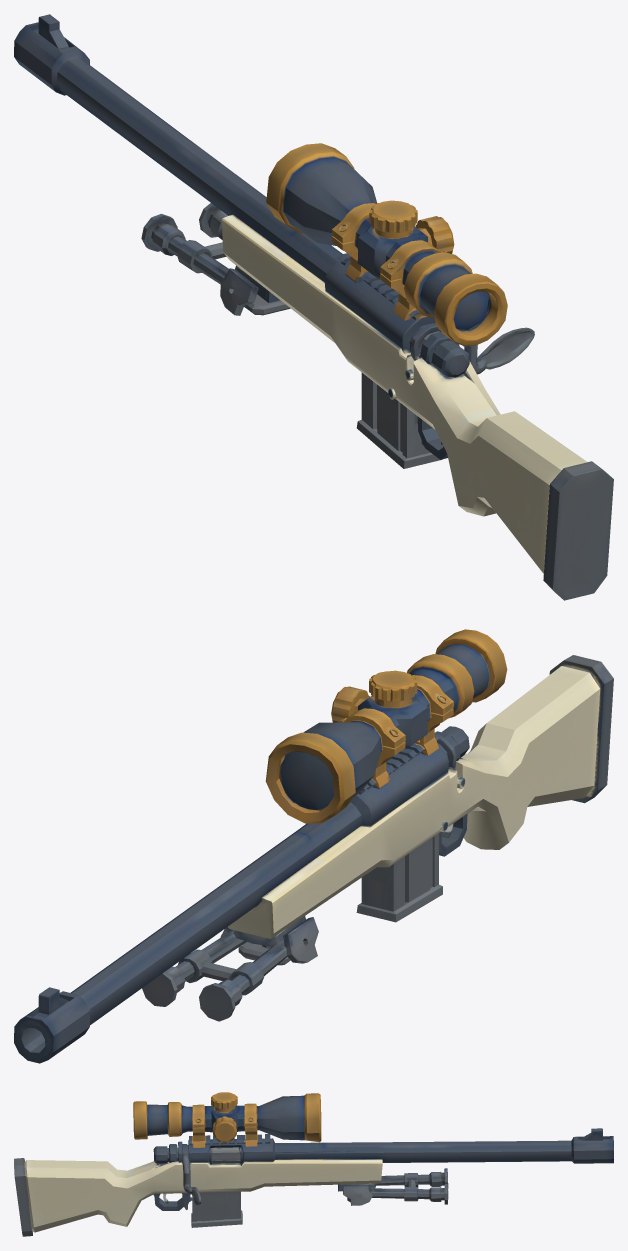
The model's file is faucheur.glb.
The picture shows the model from 3 angles, top to bottom: view 1: azimuth 30°, elevation 25°; view 2: azimuth 150°, elevation 25°; view 3: azimuth 270°, elevation 25°; orthographic projection. The views are drawn at different scales.
Parts seen in each view (by area): view 1: wpn_faucheur; view 2: wpn_faucheur; view 3: wpn_faucheur.
Boxes of the visible parts, x1,y1,x2,y2 form: wpn_faucheur: [14, 14, 613, 600]; wpn_faucheur: [14, 629, 613, 1063]; wpn_faucheur: [14, 1092, 613, 1236].
Size of the model in its own units: 0.2143 by 0.3145 by 1.25.
Materials: 1 (1 with a texture image).
